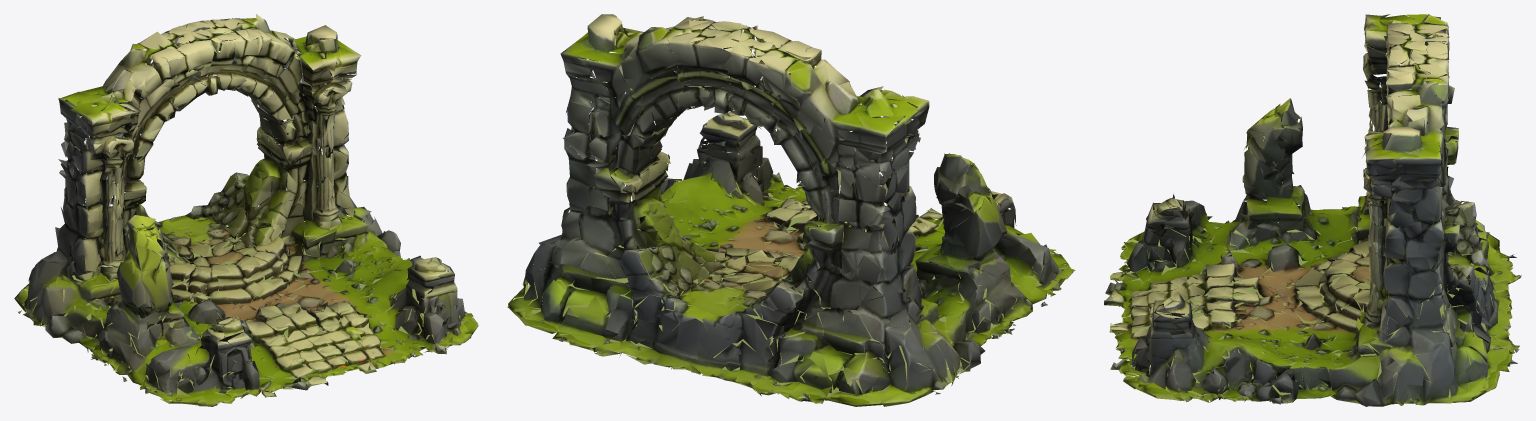
Rendered from Ancient_Gateway_Ruins_town.glb.
3 renders of one model, left to right at view 1: azimuth 30°, elevation 25°; view 2: azimuth 150°, elevation 25°; view 3: azimuth 270°, elevation 25°, orthographic. The views are drawn at different scales.
Parts seen in each view (by area): view 1: Ancient_Gateway_Ruins; view 2: Ancient_Gateway_Ruins; view 3: Ancient_Gateway_Ruins.
Boxes of the visible parts, x1,y1,x2,y2 form: Ancient_Gateway_Ruins: (14,14,478,406); Ancient_Gateway_Ruins: (507,14,1075,406); Ancient_Gateway_Ruins: (1104,14,1521,406).
Size of the model in its own units: 1.91 by 1.29 by 1.79.
Materials: 1 (1 with a texture image).
